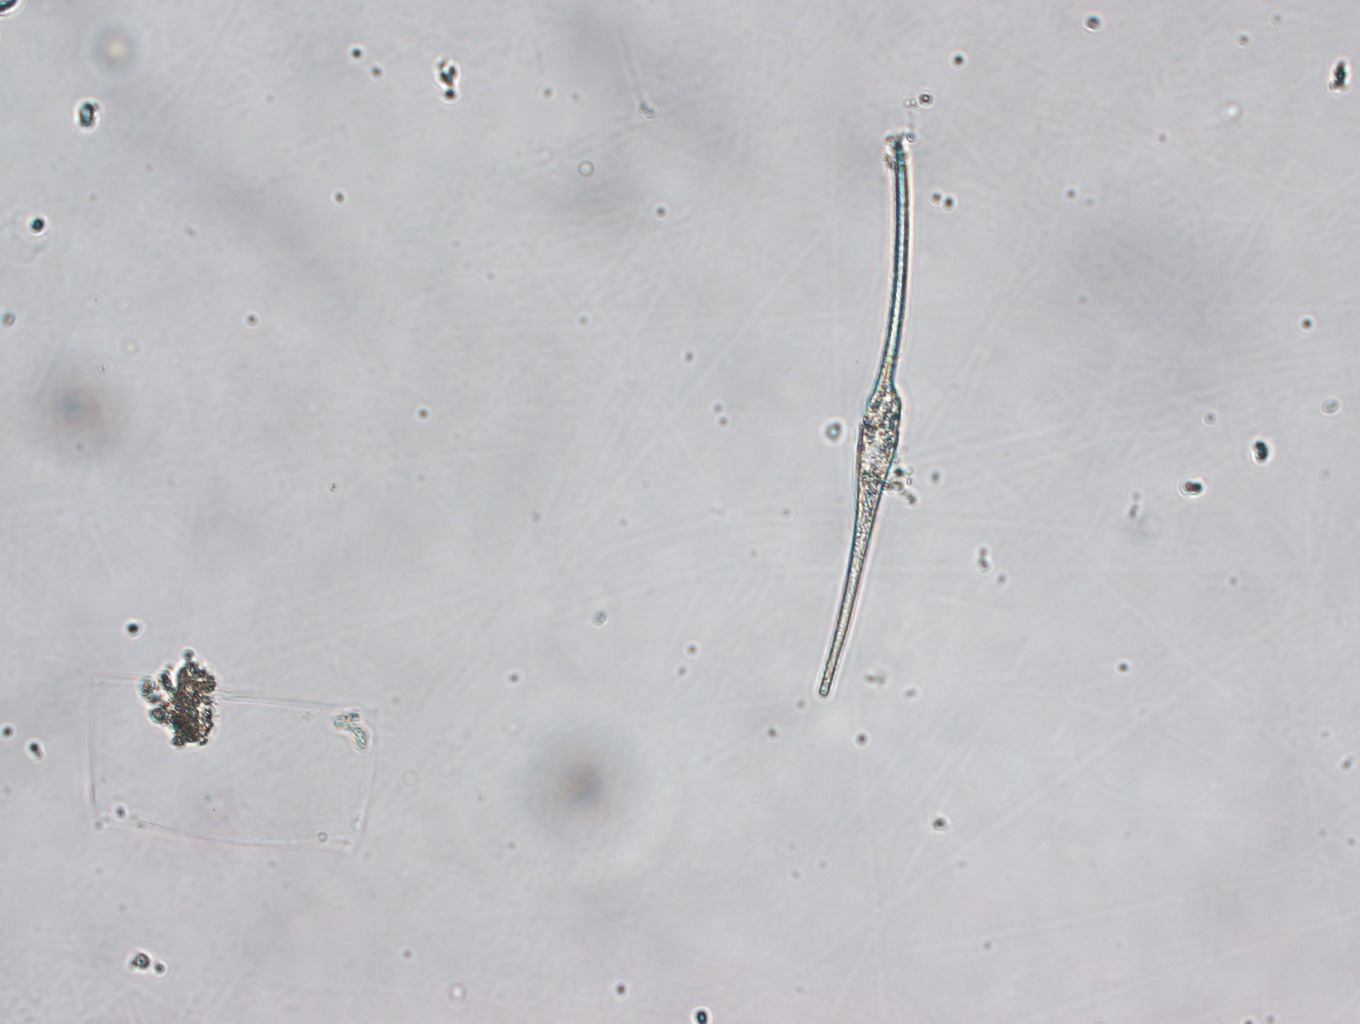ceratium fusus: (812, 130, 913, 707)
helicotheca: (87, 659, 377, 851)
